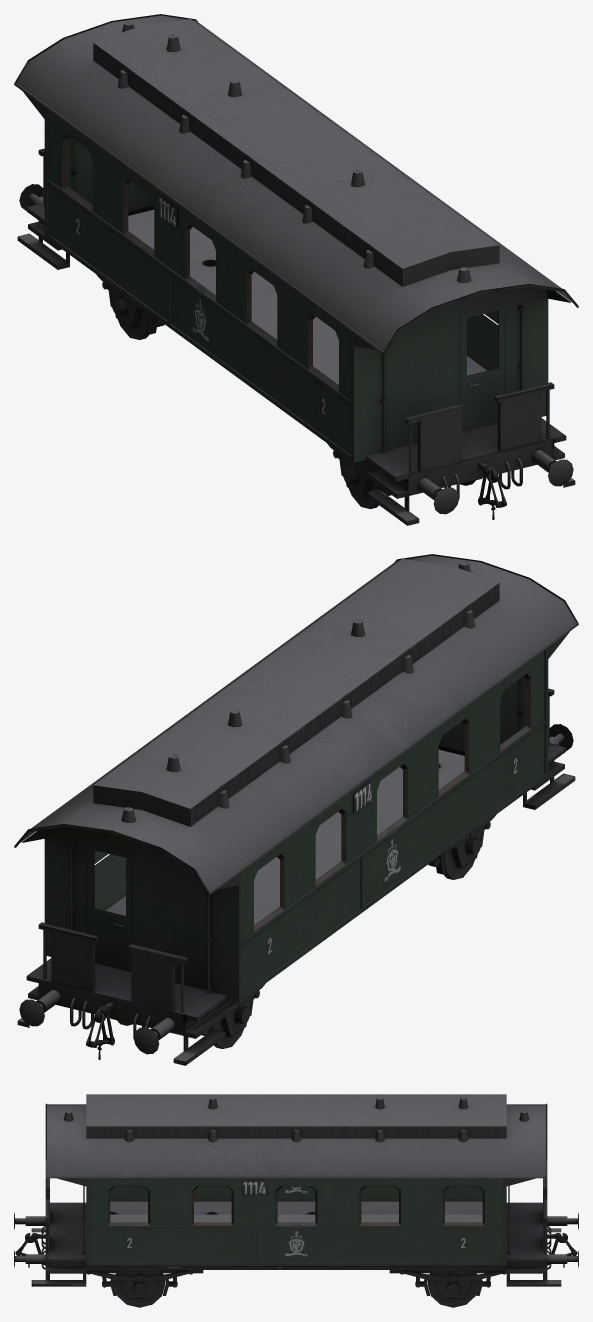
Rendered from laenderbahn_wagon.obj.
3 renders of one model, top to bottom at view 1: azimuth 30°, elevation 25°; view 2: azimuth 150°, elevation 25°; view 3: azimuth 270°, elevation 25°, orthographic. The views are drawn at different scales.
Visible parts, largest first — view 1: buda, podwozie, bufory, wywietrzniki, porecze, sprzeg; view 2: buda, podwozie, bufory, wywietrzniki, porecze, sprzeg; view 3: buda, podwozie, bufory, wywietrzniki, sprzeg, porecze, tabliczka.
Part boxes in pixels (box(x1,y1,x2,y2)): buda: box(14, 14, 578, 525); podwozie: box(96, 274, 481, 508); bufory: box(19, 184, 573, 514); wywietrzniki: box(118, 21, 471, 282); porecze: box(43, 156, 549, 472); sprzeg: box(478, 462, 506, 519); buda: box(14, 554, 578, 1065); podwozie: box(111, 814, 496, 1048); bufory: box(19, 724, 573, 1054); wywietrzniki: box(121, 561, 474, 822); porecze: box(43, 696, 549, 1012); sprzeg: box(86, 1002, 114, 1059); buda: box(31, 1094, 561, 1286); podwozie: box(86, 1270, 506, 1307); bufory: box(14, 1212, 578, 1267); wywietrzniki: box(64, 1097, 528, 1142); sprzeg: box(15, 1233, 577, 1267); porecze: box(47, 1185, 545, 1253); tabliczka: box(242, 1181, 266, 1194).
Bounding box in the file's own units: 2.96 × 4.06 × 10.81.
Materials: 1 (1 with a texture image).
